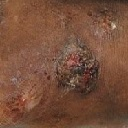Impetigo: (56, 45, 99, 93), (95, 10, 122, 37)
